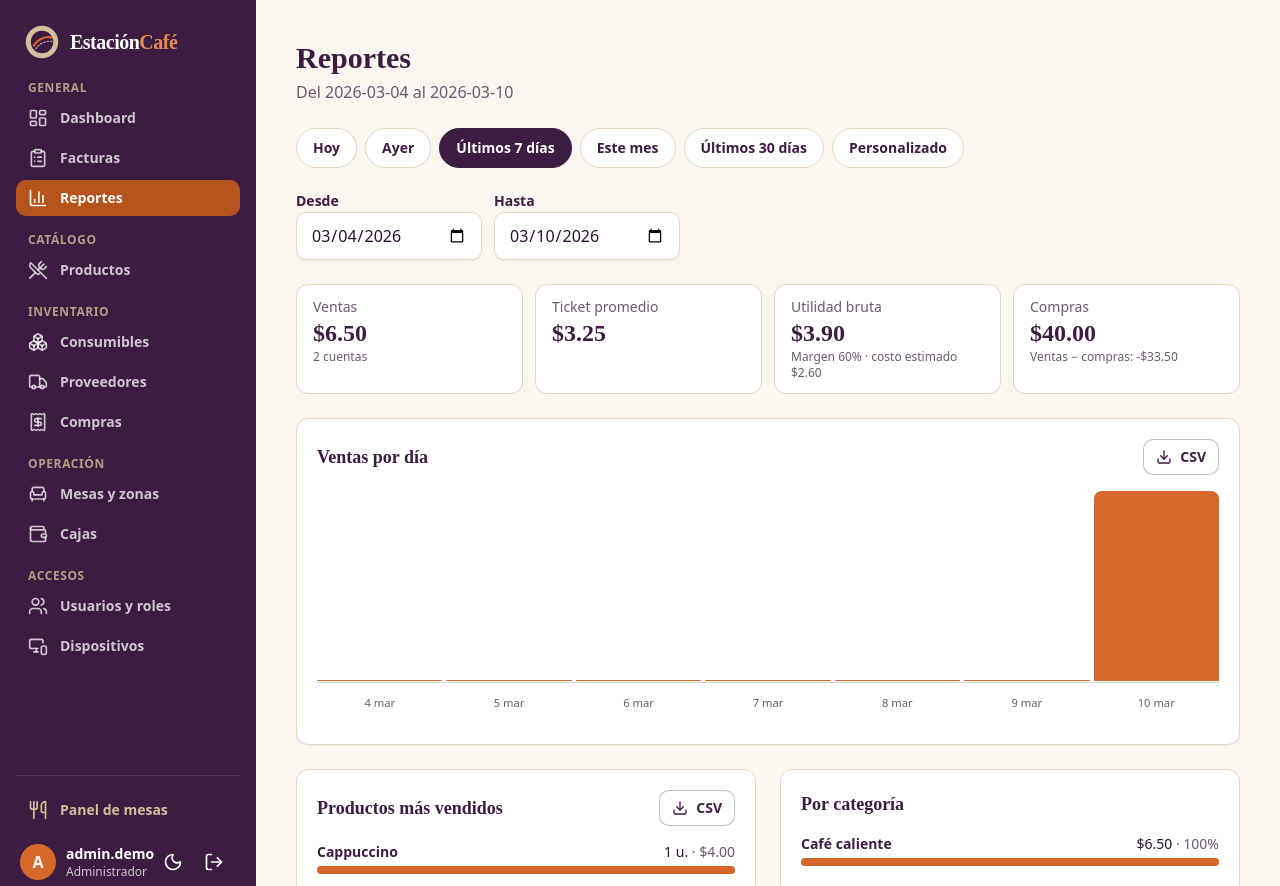
Dashboard y reportes › el reporte muestra totales, rankings y respeta el periodo
Expected: the heading "Productos más vendidos" is shown, [317,794,503,822]
Expected: the text "Cappuccino" is shown, [317,842,398,862]
Step 1. Click the button "Ayer" → click(398, 148), box [365,128,431,168]
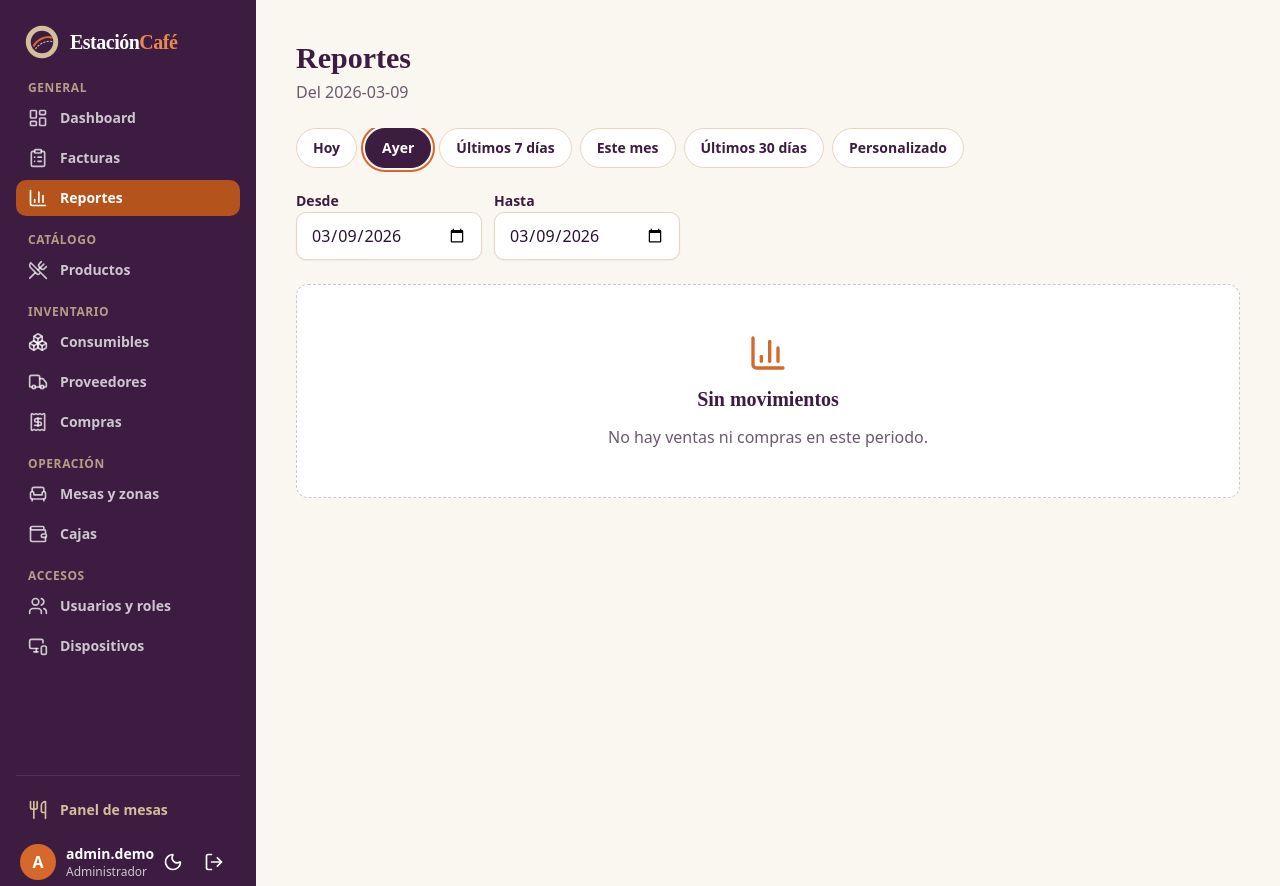
Result: the text "Sin movimientos" is shown at [697,385,839,413]
Step 2. Click the button "Hoy" → click(327, 148), box [296,128,357,168]
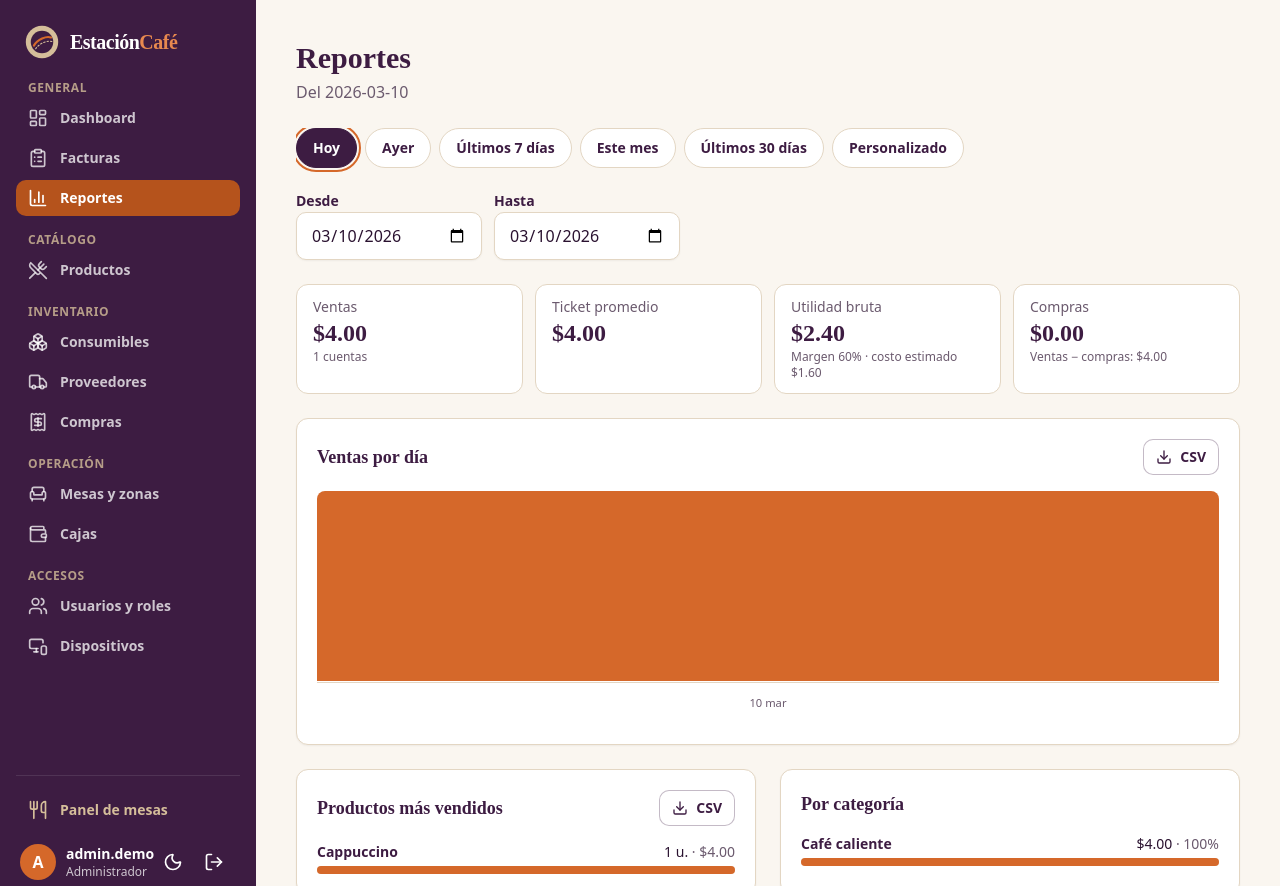
Result: the heading "Productos más vendidos" is shown at [317,794,503,822]
